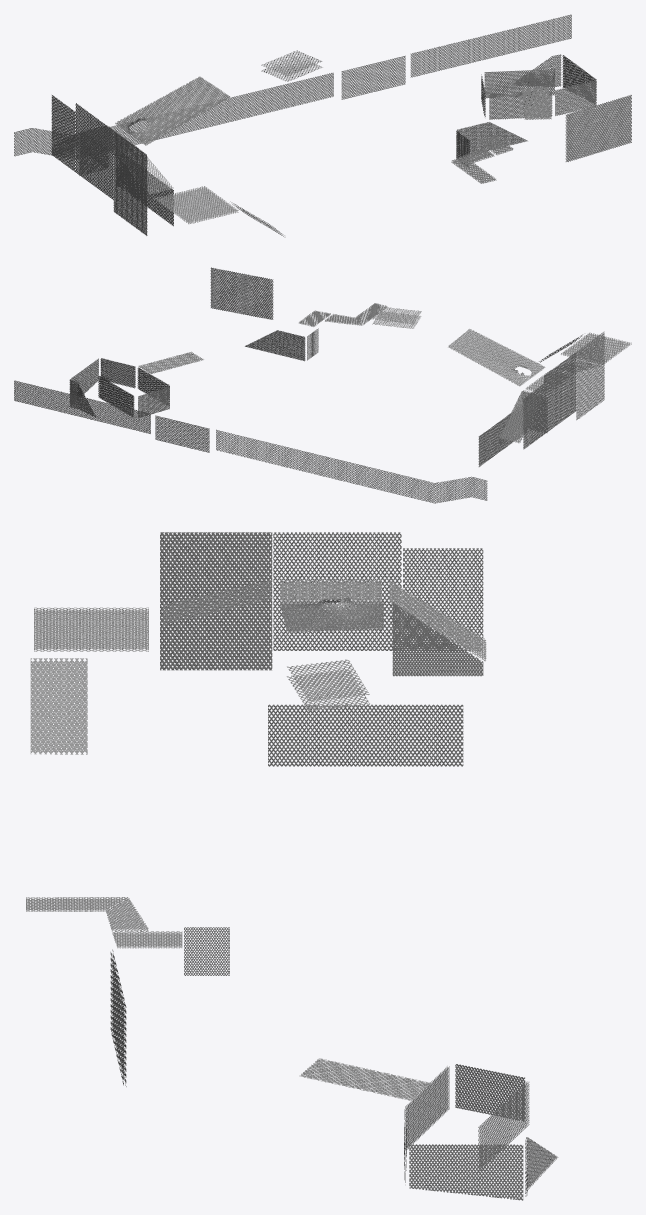
File: SM_Chainlink_01.fbx
3 views of the same model, one above another, from view 1: azimuth 30°, elevation 25°; view 2: azimuth 150°, elevation 25°; view 3: azimuth 270°, elevation 25° (orthographic). The views are drawn at different scales.
Parts seen in each view (by area): view 1: SM_Chainlink_01; view 2: SM_Chainlink_01; view 3: SM_Chainlink_01.
Part boxes in pixels (x1,y1,x2,y2): SM_Chainlink_01: (14,14,631,237); SM_Chainlink_01: (14,267,631,503); SM_Chainlink_01: (26,532,558,1200).
Bounding box in the file's own units: 8206 × 2043 × 4437.
